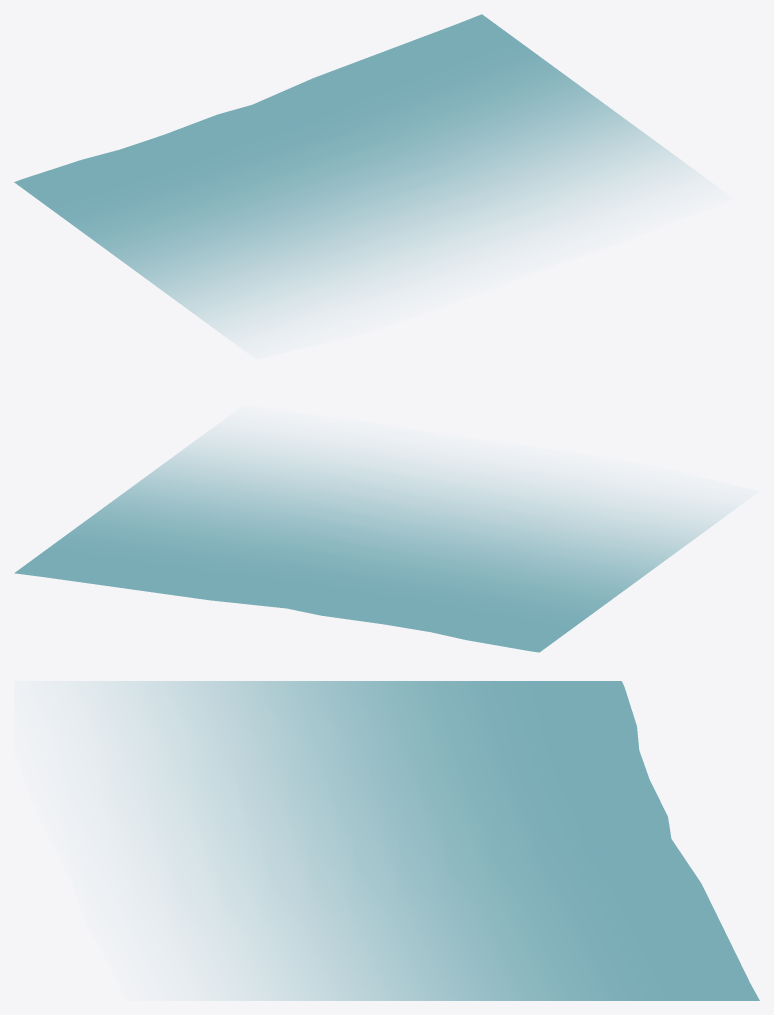
3 renders of one model, top to bottom at view 1: azimuth 30°, elevation 25°; view 2: azimuth 150°, elevation 25°; view 3: azimuth 270°, elevation 25°, orthographic. The views are drawn at different scales.
Parts seen in each view (by area): view 1: city; view 2: city; view 3: city.
Boxes of the visible parts, x1=… form: city: x1=14, y1=14, x2=696, y2=339; city: x1=14, y1=429, x2=733, y2=652; city: x1=81, y1=681, x2=759, y2=1000.
Bounding box in the file's own units: 500 × 0 × 493.
